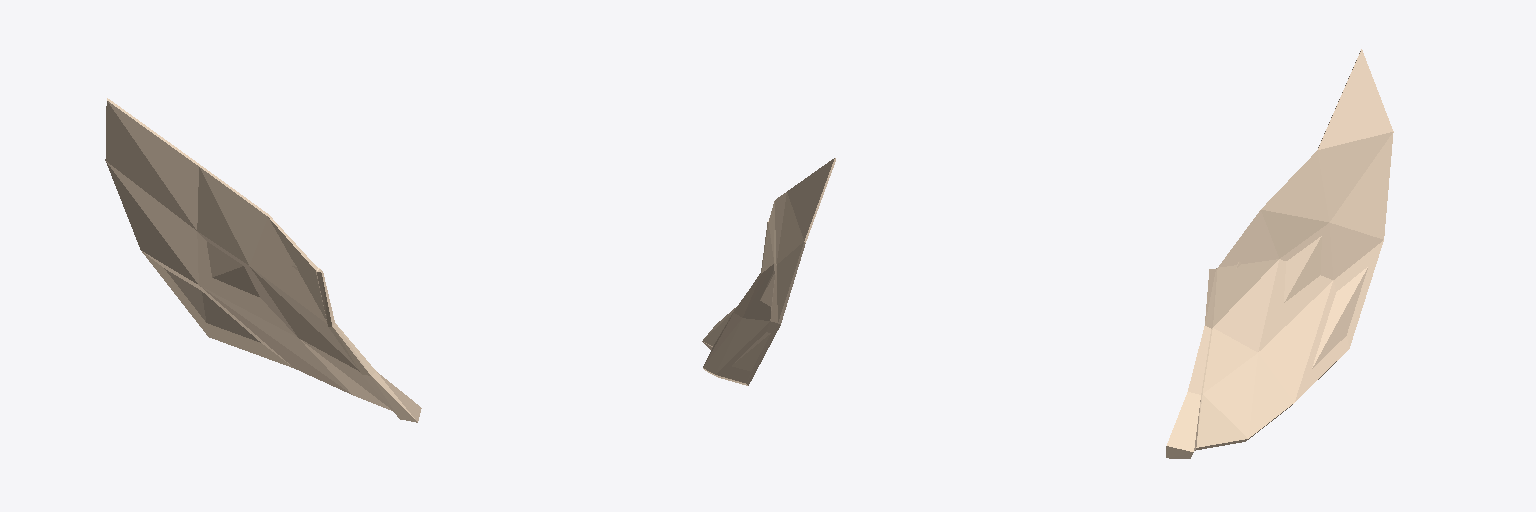
File: Harish_wing_right.obj
The picture shows the model from 3 angles: view 1: azimuth 30°, elevation 25°; view 2: azimuth 150°, elevation 25°; view 3: azimuth 270°, elevation 25°; orthographic projection.
Visible parts, largest first — view 1: Wings_right; view 2: Wings_right; view 3: Wings_right.
Part boxes in pixels (x1,y1,x2,y2): Wings_right: (105, 98, 421, 422); Wings_right: (702, 158, 835, 385); Wings_right: (1166, 49, 1393, 458).
Size of the model in its own units: 99.85 by 136 by 90.17.